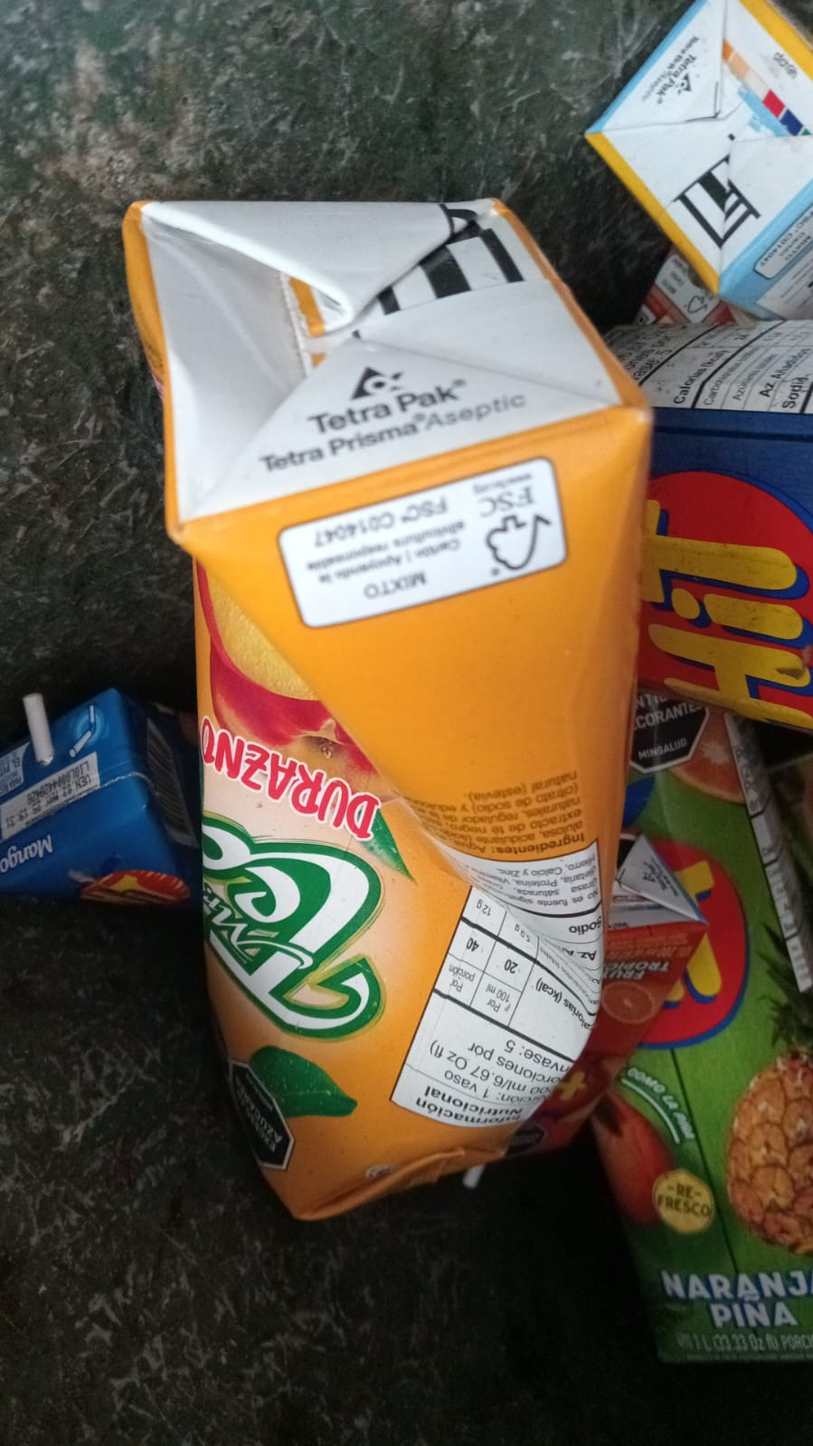Carton: (121, 198, 651, 1218), (595, 676, 801, 1379), (589, 4, 813, 327), (6, 684, 173, 901)
